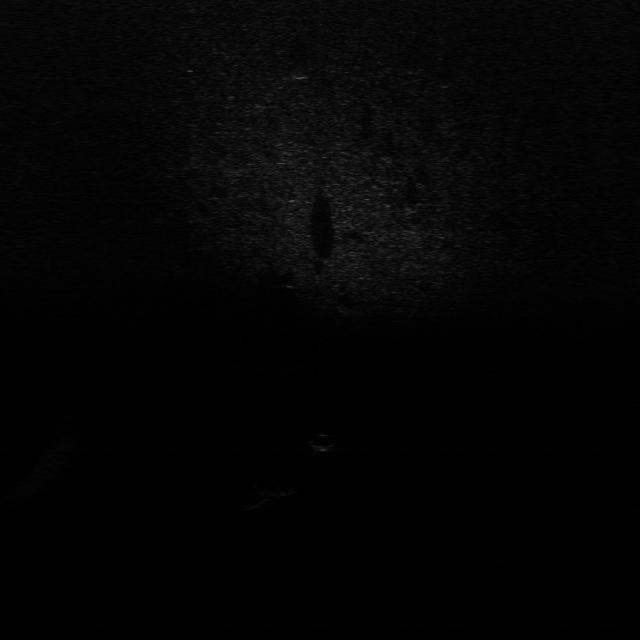ball: (302, 432, 341, 453)
square cage: (247, 484, 303, 506)
